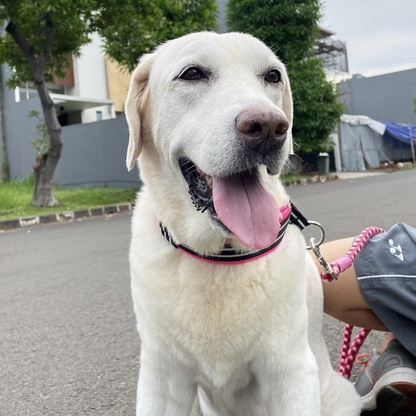labrado: (116, 26, 368, 416)
